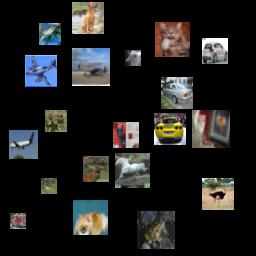airplane: (72, 48, 110, 86), (25, 55, 57, 87), (9, 130, 38, 159)
automobile: (161, 77, 193, 109), (154, 113, 186, 145), (202, 38, 228, 64)
bird: (202, 178, 234, 210), (39, 23, 61, 45), (125, 50, 141, 66)
cat: (192, 110, 230, 148), (155, 22, 190, 57), (113, 122, 139, 148)
deer: (83, 156, 109, 182), (41, 178, 57, 194)
dog: (73, 200, 108, 235), (72, 2, 104, 34)
frog: (137, 211, 175, 249), (45, 110, 67, 132)
truck: (10, 213, 26, 229)
